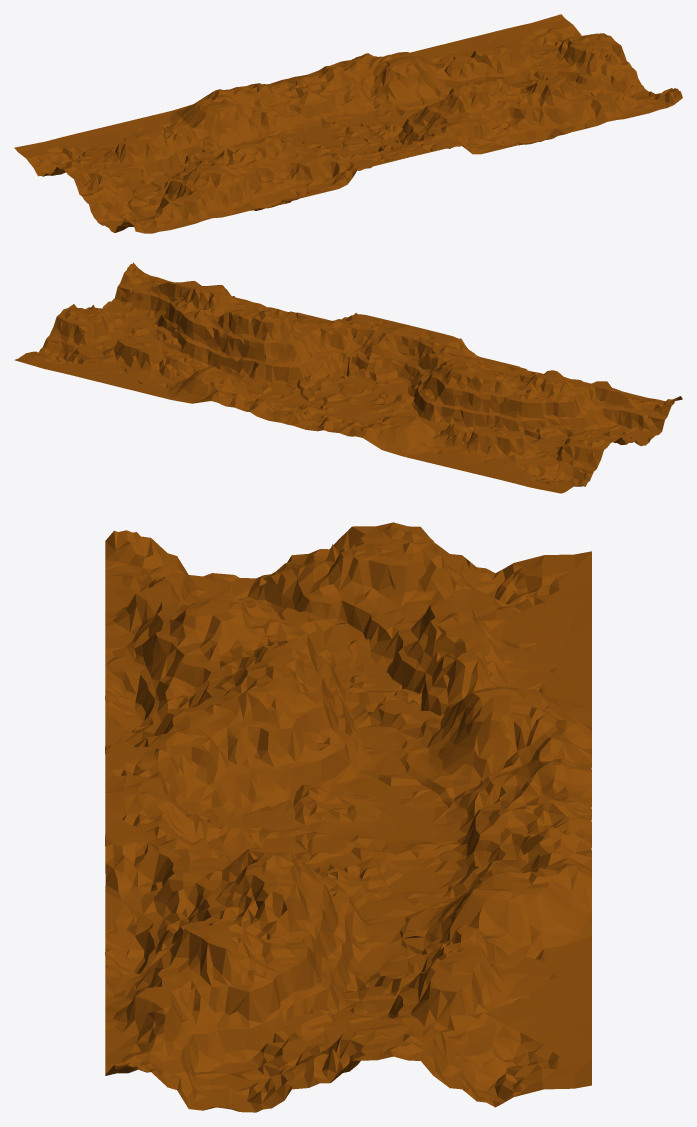
The model's file is Canyon.fbx.
3 renders of one model, top to bottom at view 1: azimuth 30°, elevation 25°; view 2: azimuth 150°, elevation 25°; view 3: azimuth 270°, elevation 25°, orthographic. The views are drawn at different scales.
Parts seen in each view (by area): view 1: Canyon; view 2: Canyon; view 3: Canyon.
Part boxes in pixels (bbox=[...]): Canyon: bbox=[14, 14, 682, 233]; Canyon: bbox=[14, 262, 682, 493]; Canyon: bbox=[105, 522, 591, 1112].
Size of the model in its own units: 1073 by 96.87 by 413.
